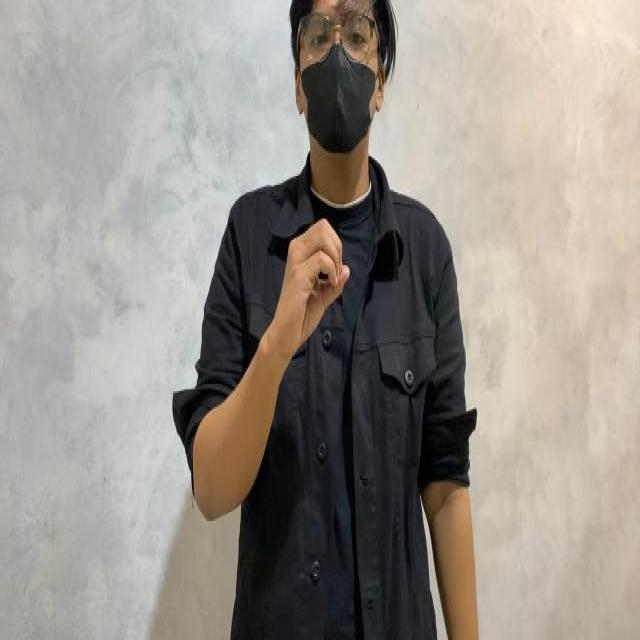O: (280, 215, 354, 334)
